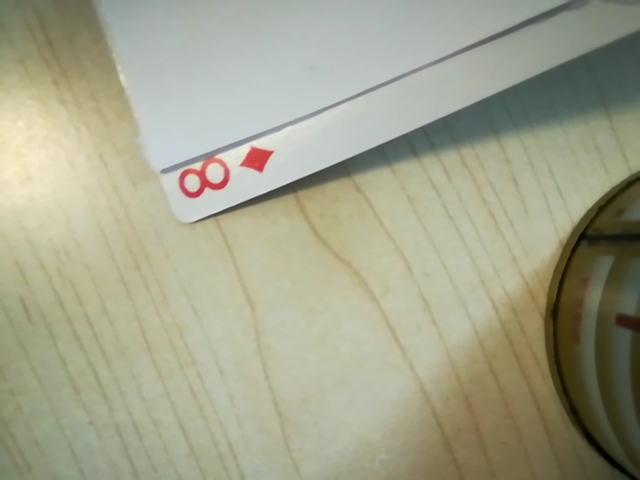fk 8: (169, 138, 271, 213)
